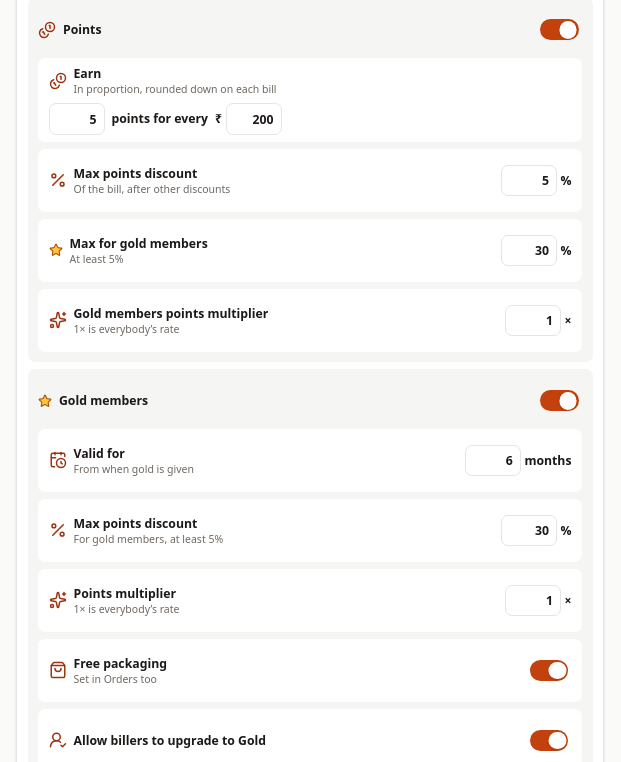
Test: gold’s settings in both places (a-regular-earns-points-and-gold) › hides free packaging from Orders the moment gold is switched off
(page scrolled)
expect the switch with test id "loyalty-gold-free-packaging" is shown: met, box [526,651,572,690]
Click the switch with test id "loyalty-gold-switch". click: x=559, y=401
box: [536,382,582,420]
(page scrolled)
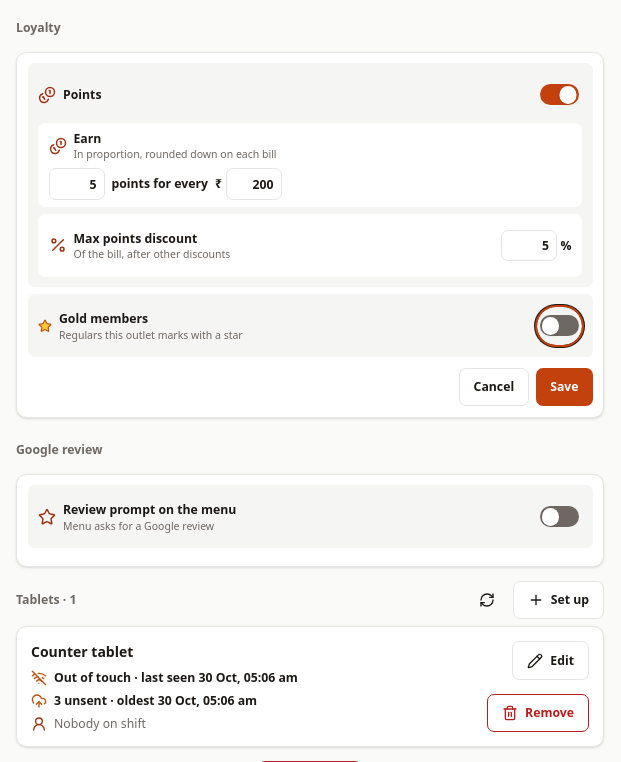
expect the switch with test id "loyalty-gold-free-packaging" is gone: met
